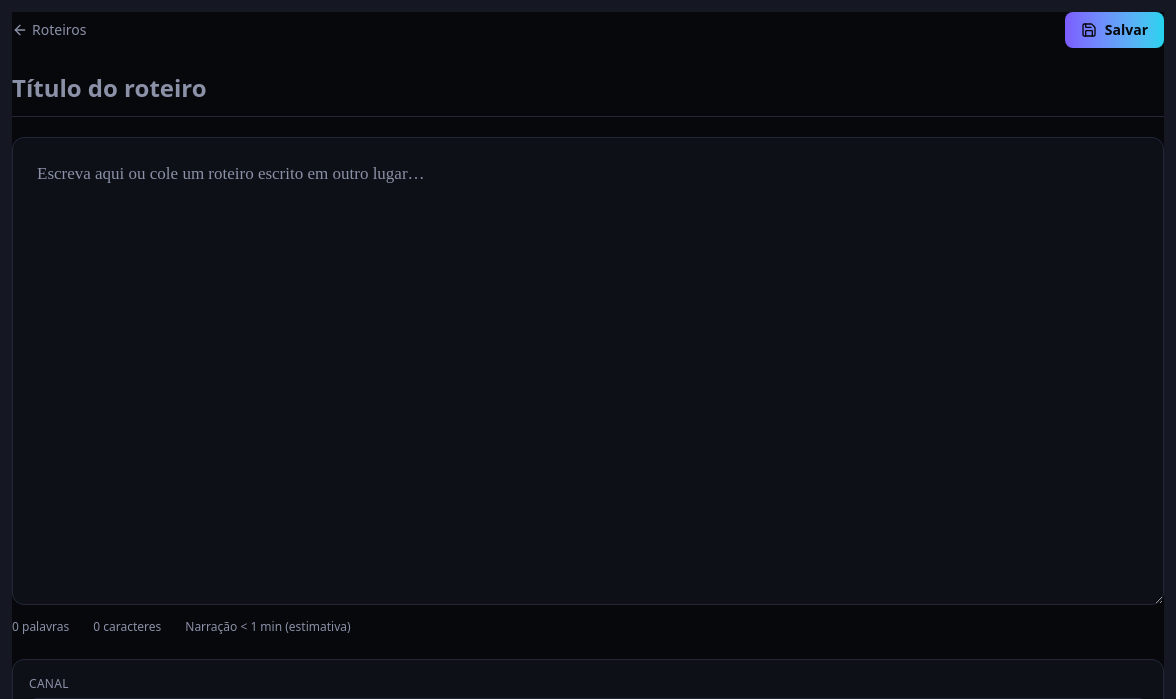
Test: ScriptEditor › não salva sem título e mostra o erro
This screenshot has width=1176, height=699.
Click the button "Salvar" at (1114, 30), box [1065,12,1164,48]
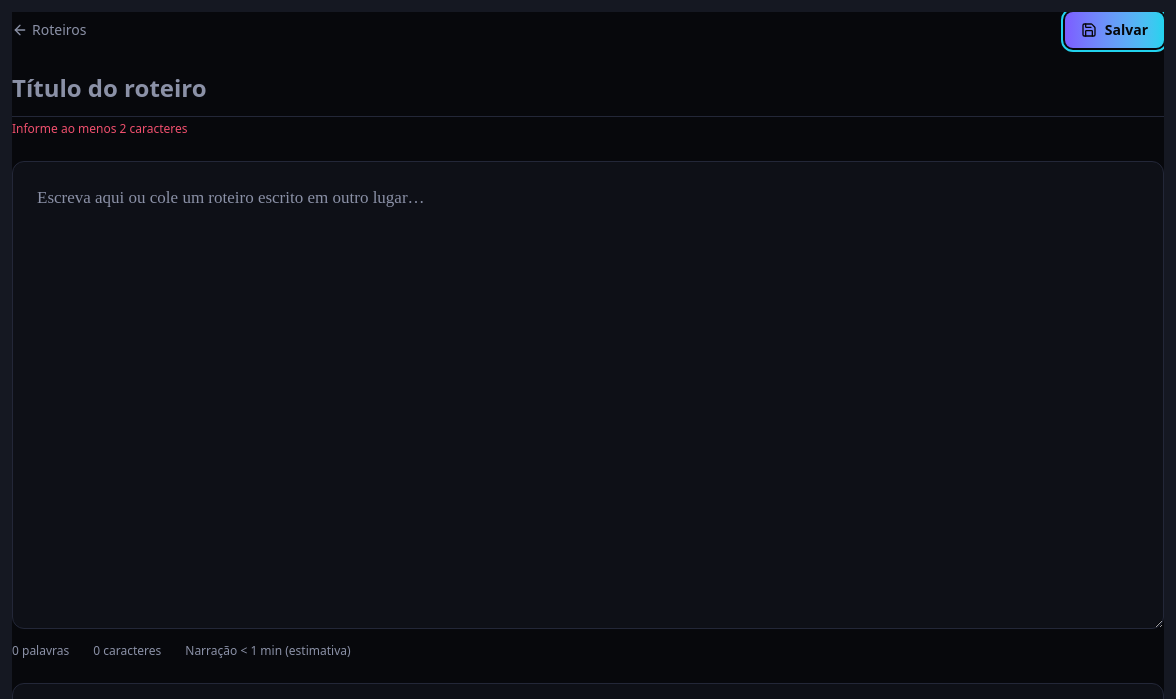
Now the text "Informe ao menos 2 caracteres" is shown, box [12,120,188,137]
